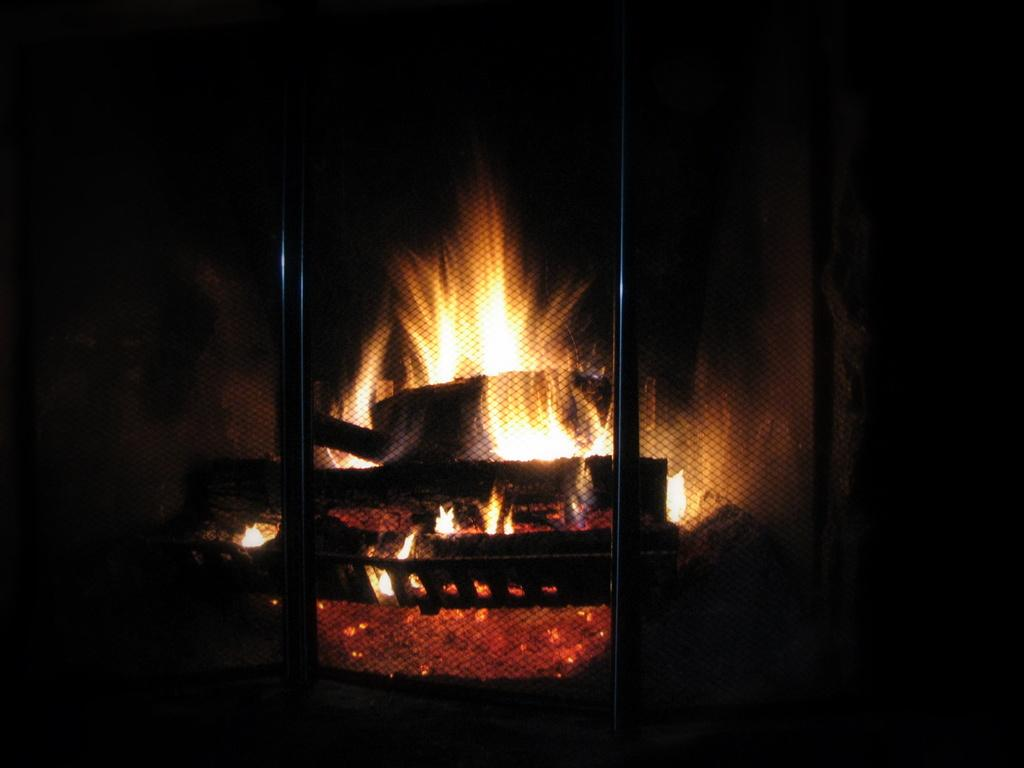Fire: (309, 186, 612, 546)
